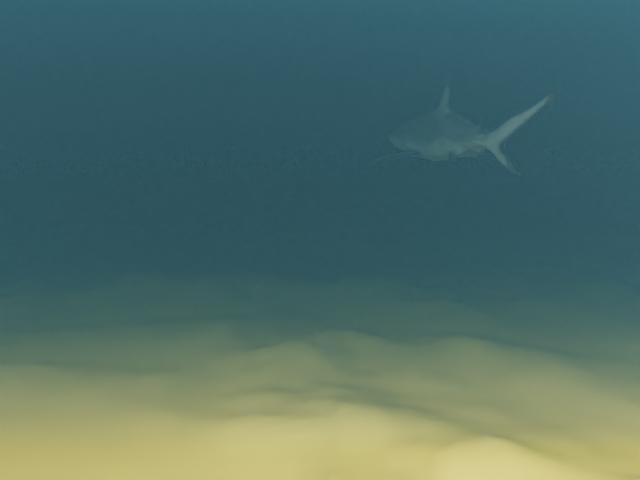Carribean Shark.001: (366, 80, 561, 175)
